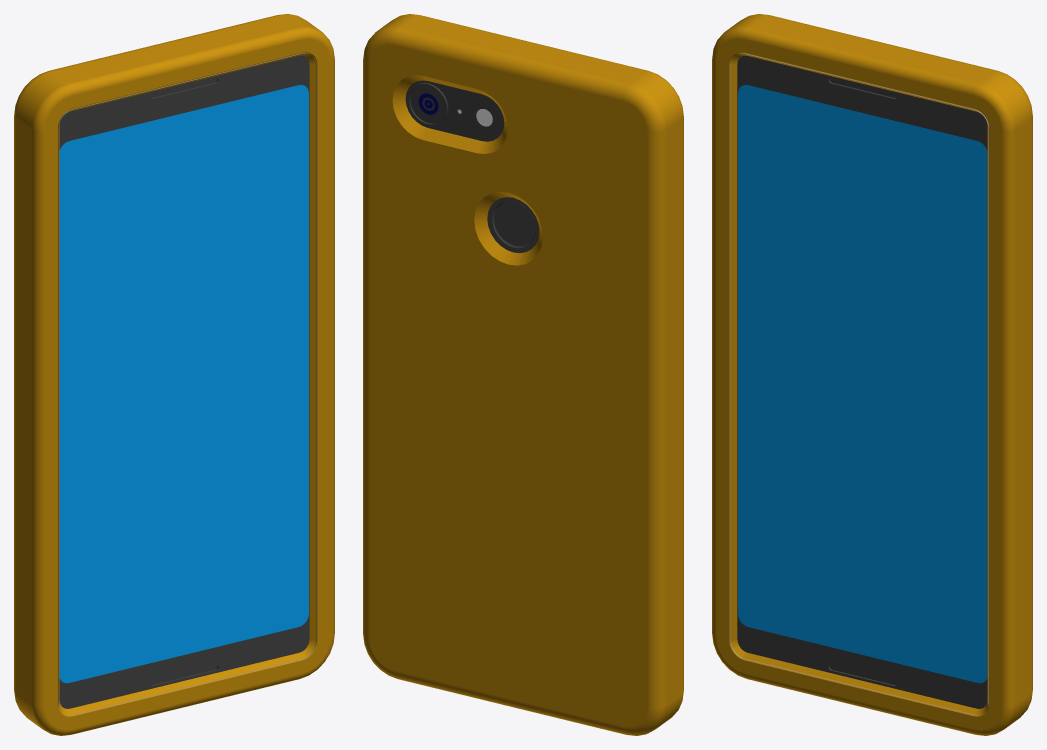
3 views of the same model, side by side, from view 1: azimuth 30°, elevation 25°; view 2: azimuth 150°, elevation 25°; view 3: azimuth 330°, elevation 25° (orthographic).
Parts seen in each view (by area): view 1: Body1, Body1:1, Body2; view 2: Body1:1, Body1; view 3: Body1, Body1:1, Body2.
Part boxes in pixels (x1,y1,x2,y2): Body1: (59, 55, 309, 708); Body1:1: (14, 14, 334, 735); Body2: (58, 53, 316, 715); Body1:1: (363, 14, 683, 735); Body1: (405, 80, 539, 252); Body1: (737, 55, 987, 708); Body1:1: (712, 14, 1032, 735); Body2: (730, 53, 988, 715).
Bounding box in the file's own units: 7.27 × 15 × 1.17.
